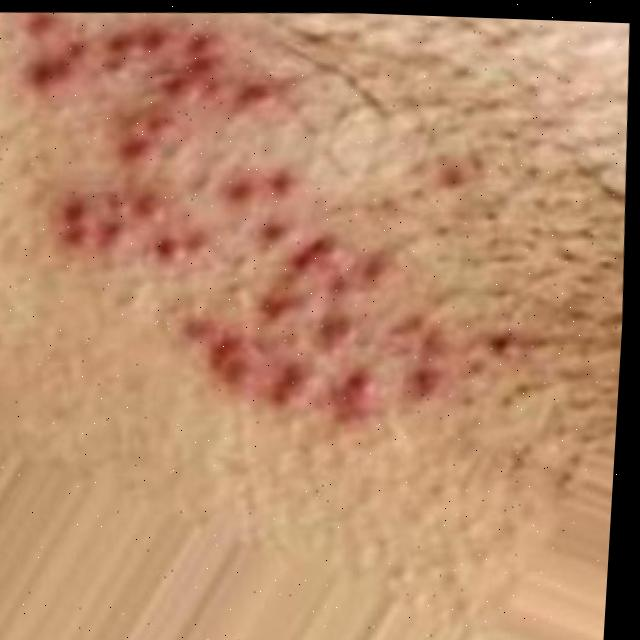Shingles: (0, 5, 427, 428)
